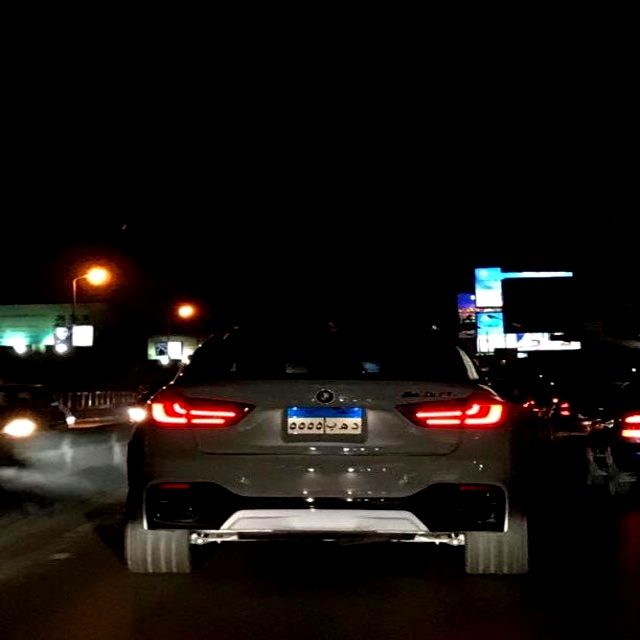License Plate: (284, 405, 365, 437)
